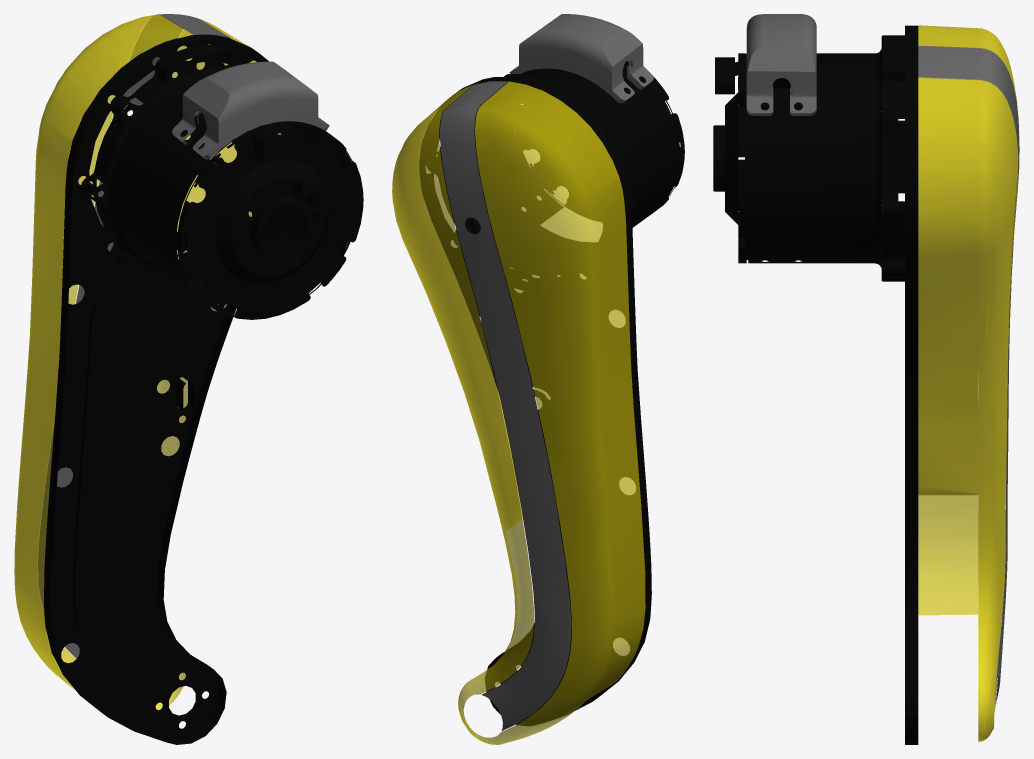
Rendered from L_THIGH.dae.
3 views of the same model, side by side, from view 1: azimuth 30°, elevation 25°; view 2: azimuth 150°, elevation 25°; view 3: azimuth 270°, elevation 25° (orthographic). The views are drawn at different scales.
Parts seen in each view (by area): view 1: FL_THIGH_-_________________-1 (×14); view 2: FL_THIGH_-_________________-1 (×7); view 3: FL_THIGH_-_________________-1 (×8).
Part boxes in pixels (x1,y1,x2,y2): FL_THIGH_-_________________-1 (×14): (14, 14, 363, 744); FL_THIGH_-_________________-1 (×7): (392, 14, 684, 744); FL_THIGH_-_________________-1 (×8): (714, 14, 1019, 744).
Size of the model in its own units: 0.0856 by 0.0918 by 0.2367.
